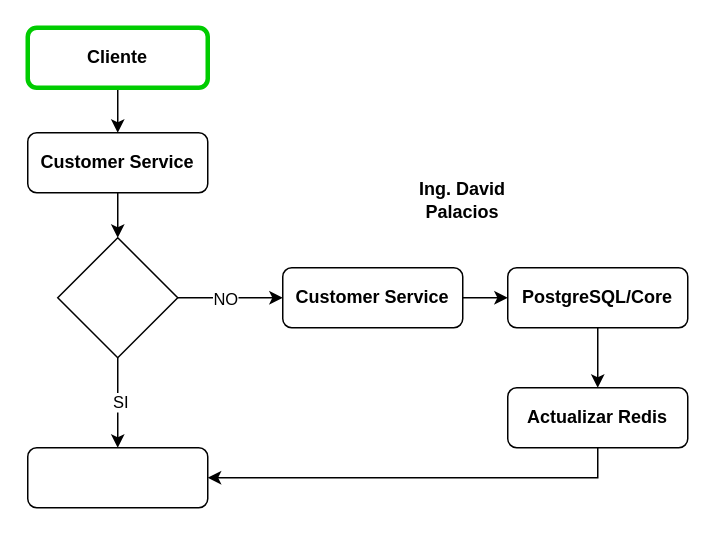
Image size: 714x534. Some labels were removed from this diagram. Here are the shapes that lost their labels. From the top down, the centre of each, then its label:
At pixel 117 297: "¿Existe en Redis?".
At pixel 117 477: "Respuesta".
